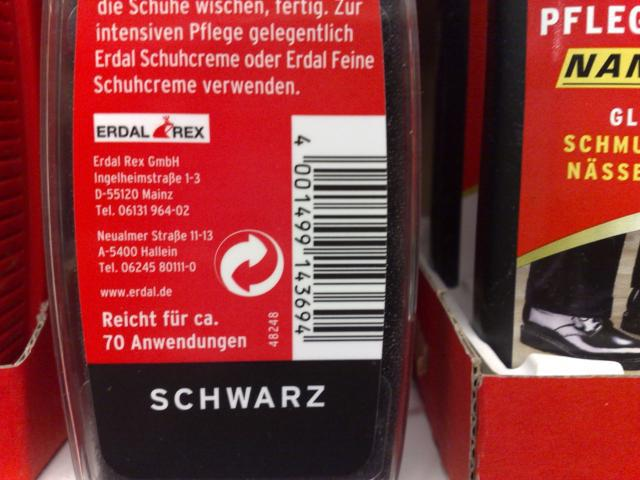Barkod: (310, 153, 386, 341)
